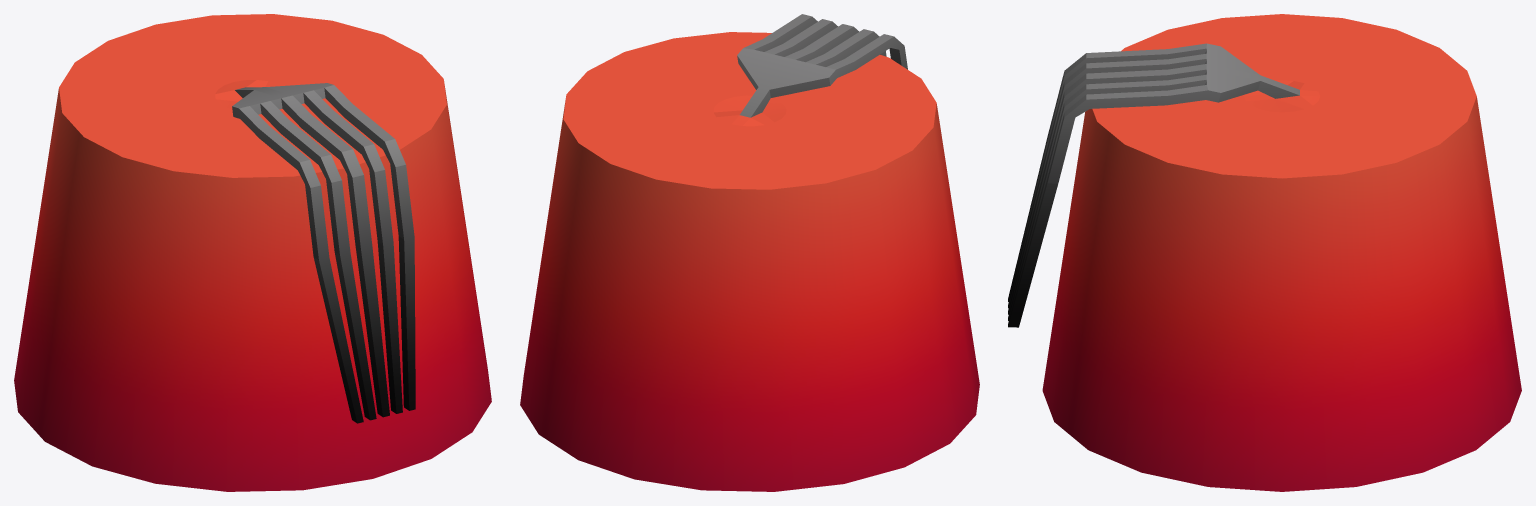
File: Fez.fbx
3 renders of one model, left to right at view 1: azimuth 30°, elevation 25°; view 2: azimuth 150°, elevation 25°; view 3: azimuth 270°, elevation 25°, orthographic. The views are drawn at different scales.
Visible parts, largest first — view 1: Fez; view 2: Fez; view 3: Fez.
Boxes of the visible parts, left/top/right/bottom form: Fez: left=14, top=14, right=491, bottom=491; Fez: left=520, top=14, right=979, bottom=491; Fez: left=1008, top=14, right=1521, bottom=491.
Bounding box in the file's own units: 197 × 146 × 212.
1 material, 1 textured.
